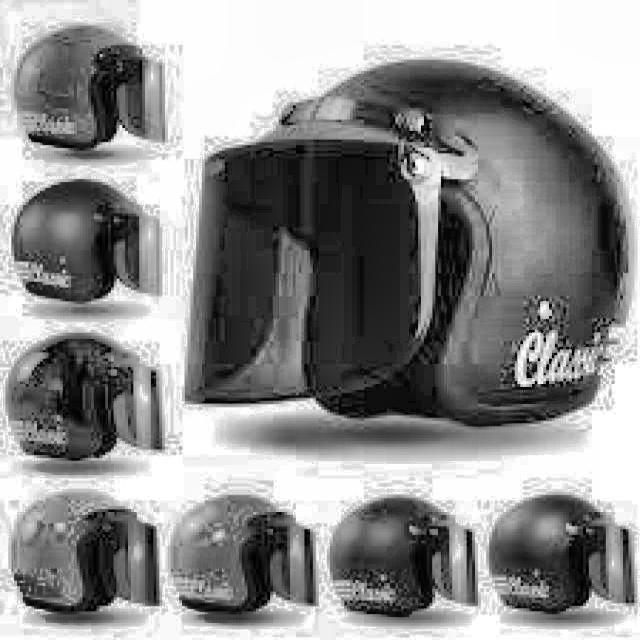Helmet: (190, 57, 633, 419), (12, 327, 166, 480), (10, 476, 162, 623), (489, 479, 637, 627), (12, 176, 168, 316), (17, 22, 170, 162), (332, 483, 478, 626), (177, 482, 321, 626)
